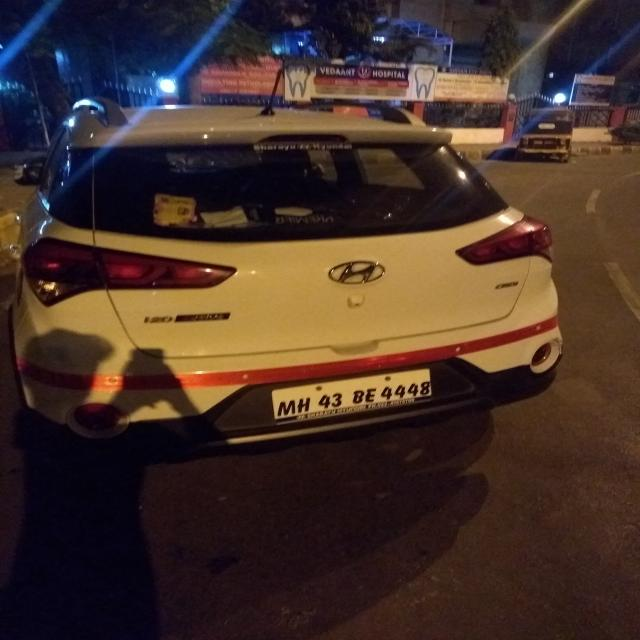Number-Plate: (272, 372, 431, 422)
